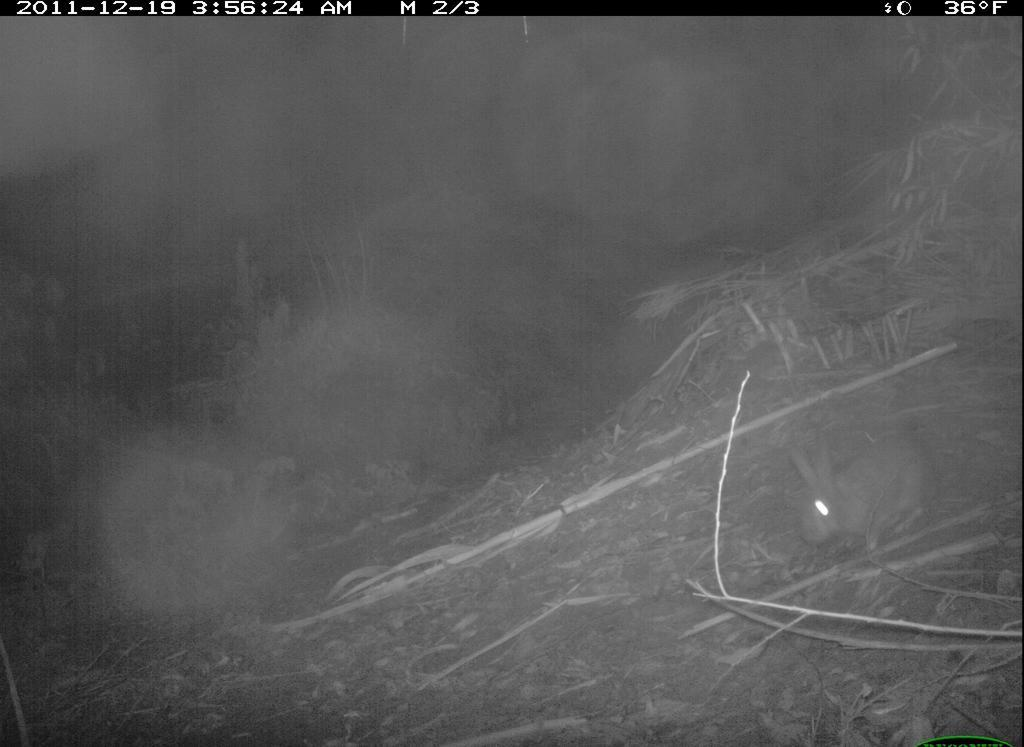rabbit: (783, 423, 950, 550)
